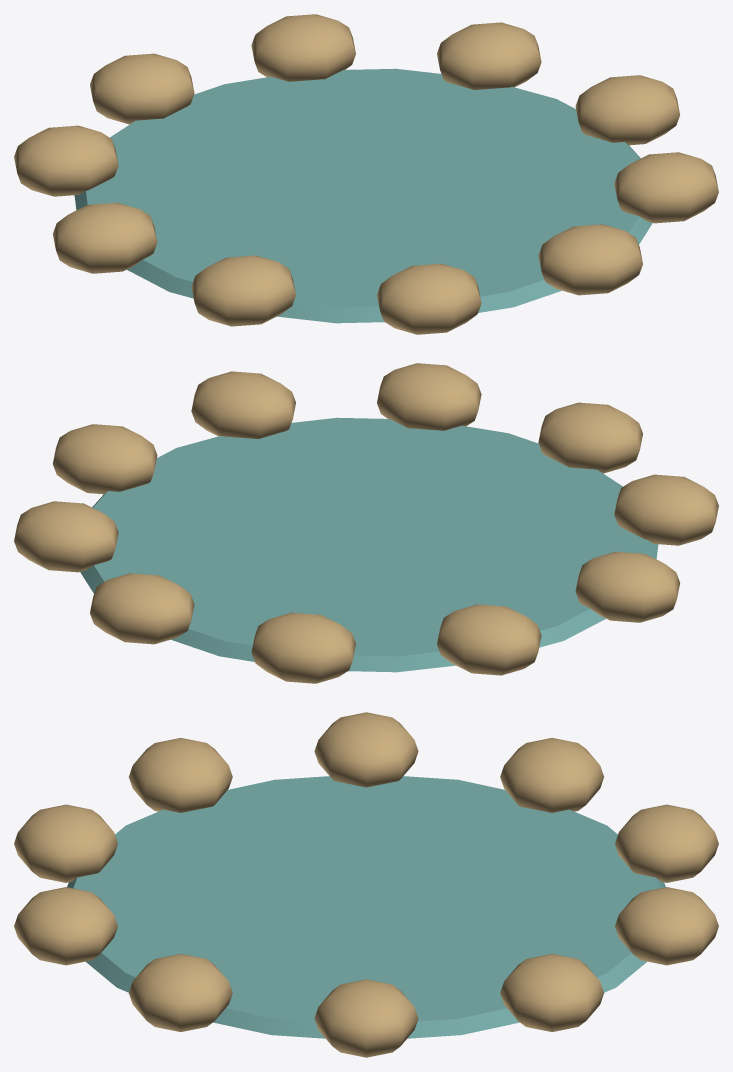
Rendered from spring.glb.
3 views of the same model, one above another, from view 1: azimuth 30°, elevation 25°; view 2: azimuth 150°, elevation 25°; view 3: azimuth 270°, elevation 25° (orthographic). The views are drawn at different scales.
Parts seen in each view (by area): view 1: batch_spring_0, batch_spring_1; view 2: batch_spring_0, batch_spring_1; view 3: batch_spring_0, batch_spring_1.
Boxes of the visible parts, <box> form: batch_spring_0: <box>74,68,652,323</box>; batch_spring_1: <box>14,14,718,334</box>; batch_spring_0: <box>80,417,658,672</box>; batch_spring_1: <box>14,363,718,683</box>; batch_spring_0: <box>67,776,665,1038</box>; batch_spring_1: <box>14,712,718,1057</box>.
Bounding box in the file's own units: 2.02 × 0.18 × 1.9.
